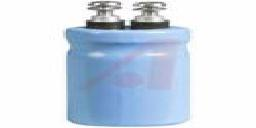Electrolytic-capacitor: (61, 1, 195, 128)
